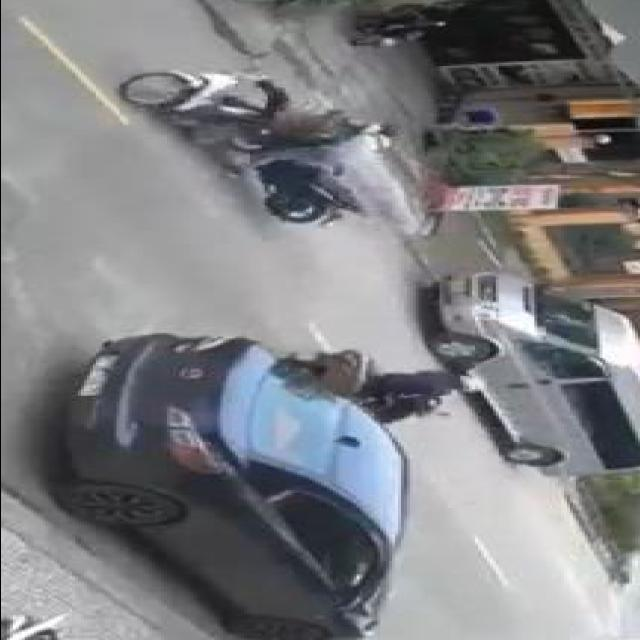accident: (105, 66, 416, 231)
